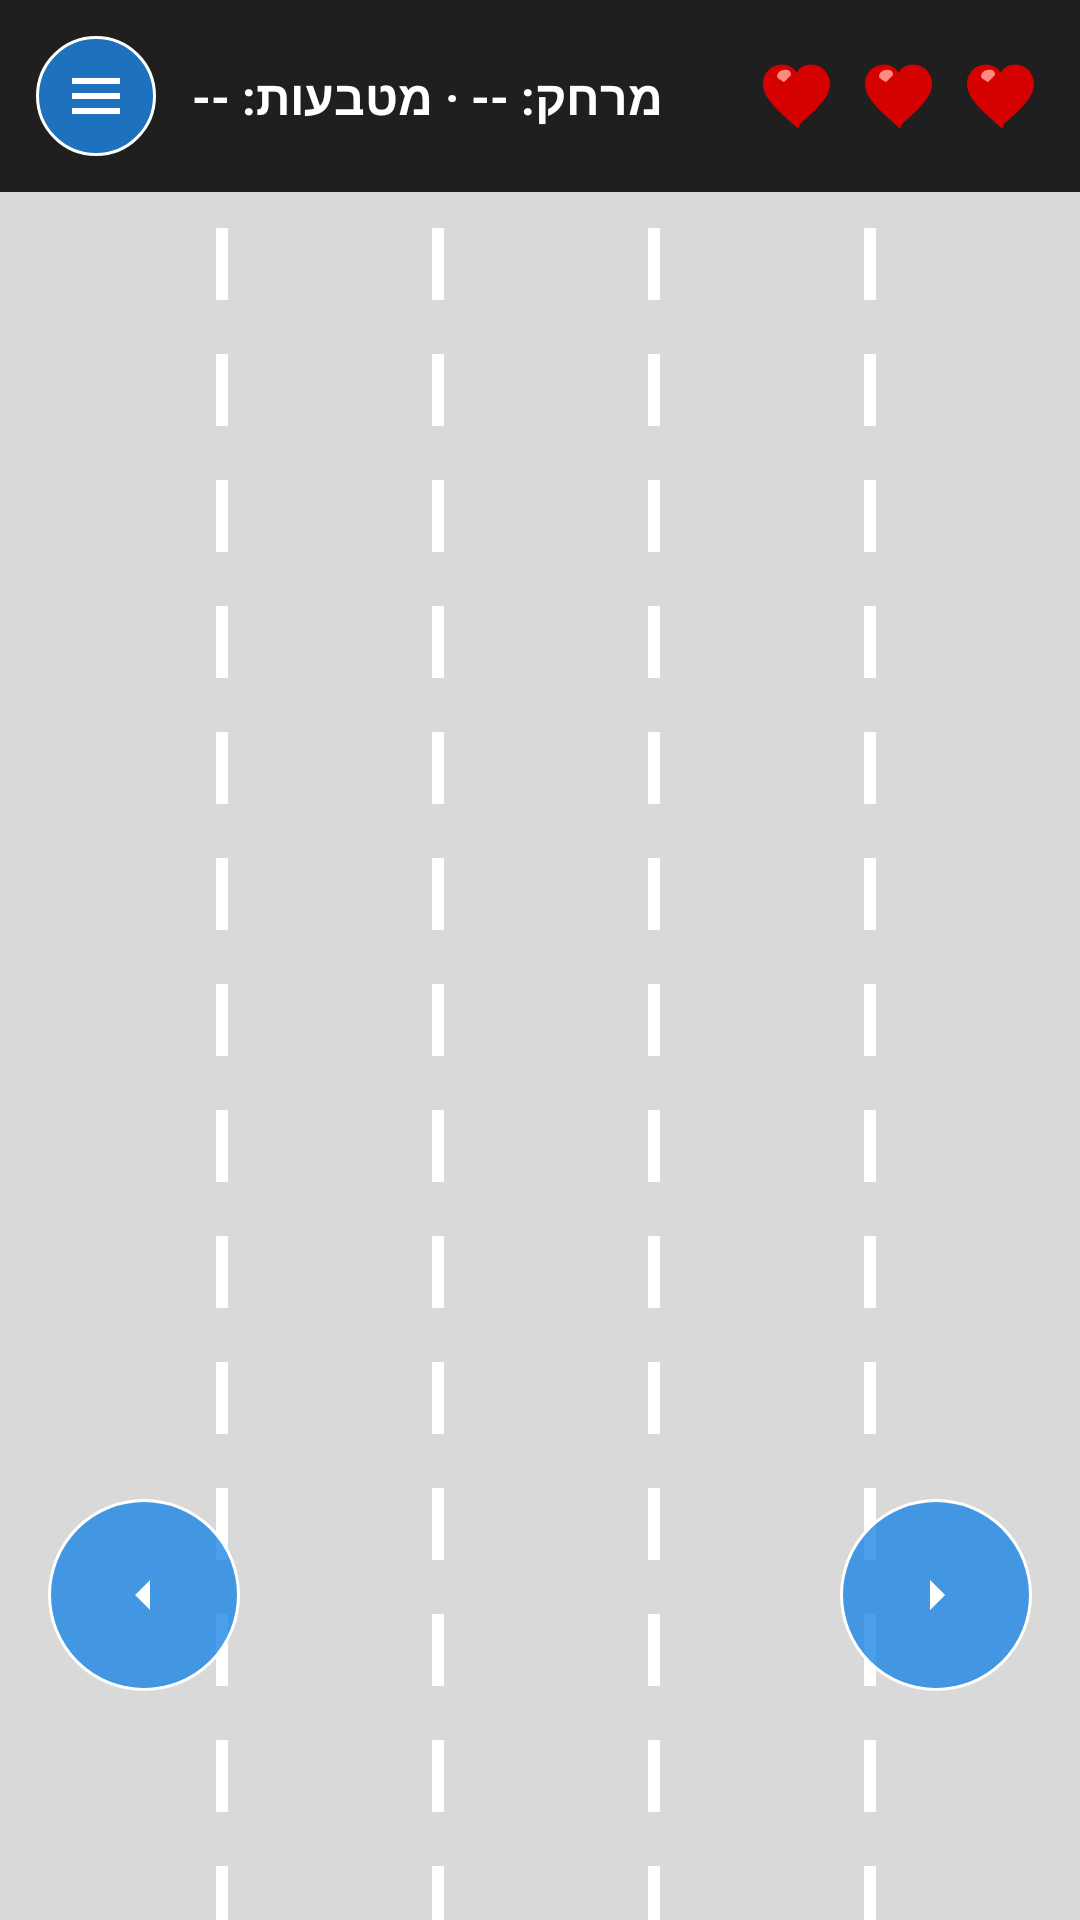

Named icons in this screenshot (1080×1920) and their centers, [x,y]:
זוז ימינה: [936,1595]
זוז שמאלה: [144,1595]
חיי השחקן: [796,96], [898,96], [1000,96]
פתיחת תפריט: [96,96]
